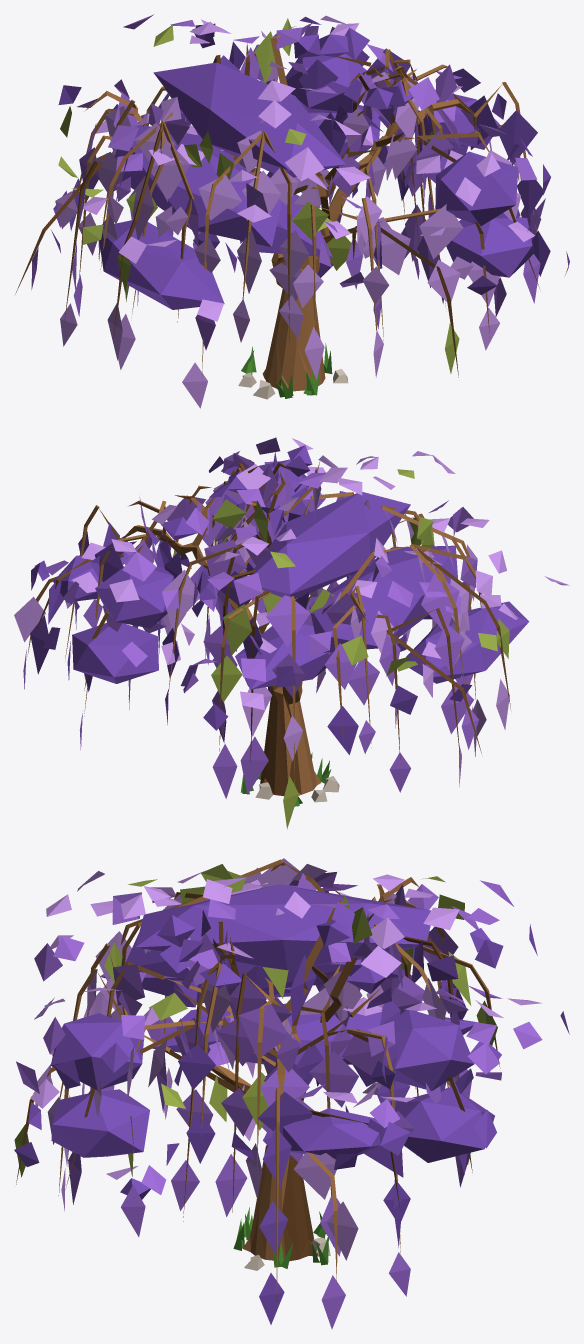
File: wisteria_bloom.glb
3 views of the same model, one above another, from view 1: azimuth 30°, elevation 25°; view 2: azimuth 150°, elevation 25°; view 3: azimuth 270°, elevation 25° (orthographic). The views are drawn at different scales.
Visible parts, largest first — view 1: wisteria_bloom; view 2: wisteria_bloom; view 3: wisteria_bloom.
Part boxes in pixels (x1=…): wisteria_bloom: x1=15, y1=14, x2=569, y2=408; wisteria_bloom: x1=14, y1=437, x2=569, y2=829; wisteria_bloom: x1=14, y1=858, x2=569, y2=1329.
Size of the model in its own units: 9.79 by 6.2 by 8.46.
